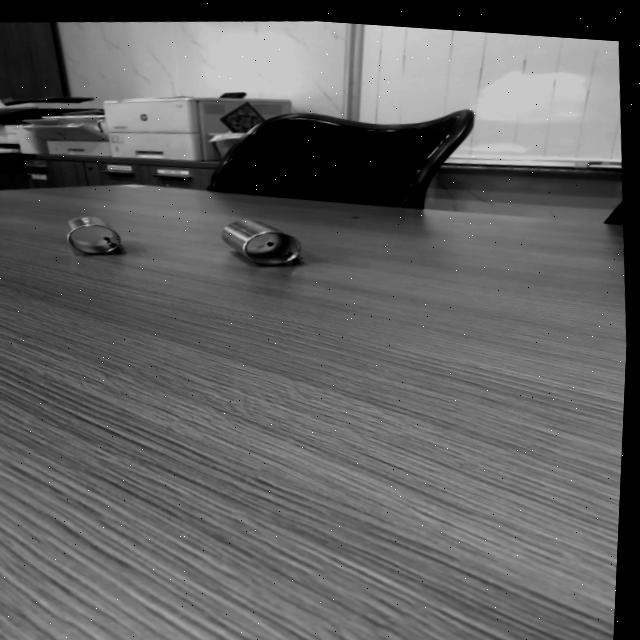Co_Lon: (215, 209, 308, 279)
Co_Nho: (66, 216, 125, 256)
